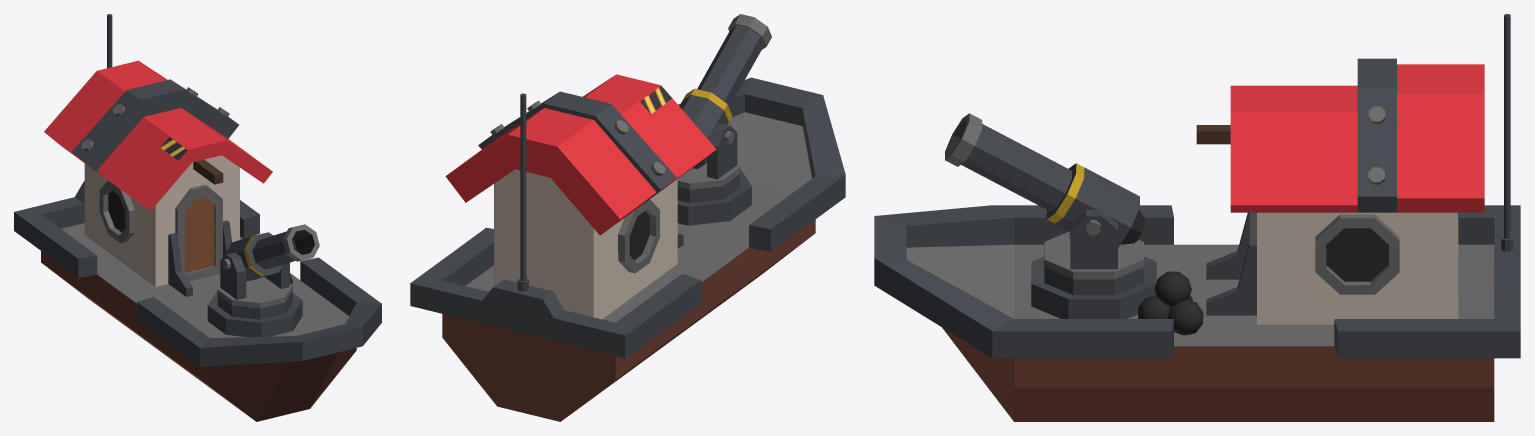
Rendered from Enemy.1.fbx.
3 renders of one model, left to right at view 1: azimuth 30°, elevation 25°; view 2: azimuth 150°, elevation 25°; view 3: azimuth 270°, elevation 25°, orthographic. The views are drawn at different scales.
Visible parts, largest first — view 1: Enemy.1_Cabin, Enemy.1, Enemy.1_Base_Cannon; view 2: Enemy.1, Enemy.1_Cabin, Enemy.1_Base_Cannon; view 3: Enemy.1, Enemy.1_Cabin, Enemy.1_Base_Cannon.
Part boxes in pixels (x1,y1,x2,y2): Enemy.1_Cabin: (44,60,272,296); Enemy.1: (14,14,381,421); Enemy.1_Base_Cannon: (207,224,319,337); Enemy.1: (410,77,845,421); Enemy.1_Cabin: (445,74,716,319); Enemy.1_Base_Cannon: (677,14,771,225); Enemy.1: (874,14,1520,421); Enemy.1_Cabin: (1196,58,1484,324); Enemy.1_Base_Cannon: (945,113,1156,318).
Bounding box in the file's own units: 248 × 357 × 538.
